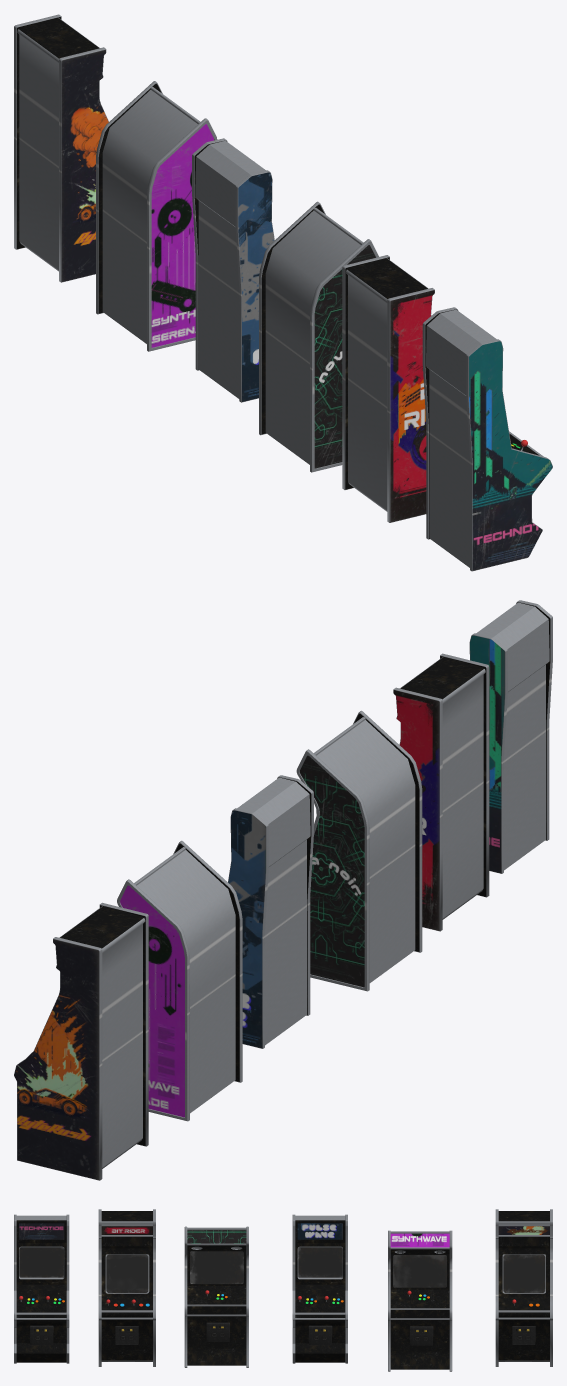
File: arcade-machine-kit.glb
The picture shows the model from 3 angles, top to bottom: view 1: azimuth 30°, elevation 25°; view 2: azimuth 150°, elevation 25°; view 3: azimuth 270°, elevation 25°; orthographic projection. The views are drawn at different scales.
Parts seen in each view (by area): view 1: arcade 5_001, arcade 1, arcade 6, arcade 2, arcade 3_001, arcade 4; view 2: arcade 6, arcade 3_001, arcade 5_001, arcade 2, arcade 4, arcade 1; view 3: arcade 3_001, arcade 5_001, arcade 2, arcade 6, arcade 1, arcade 4.
Part boxes in pixels (x1=…): arcade 5_001: x1=96, y1=81, x2=217, y2=351; arcade 1: x1=422, y1=307, x2=552, y2=571; arcade 6: x1=14, y1=14, x2=108, y2=282; arcade 2: x1=342, y1=255, x2=434, y2=522; arcade 3_001: x1=259, y1=201, x2=378, y2=472; arcade 4: x1=192, y1=138, x2=274, y2=402; arcade 6: x1=14, y1=902, x2=148, y2=1180; arcade 3_001: x1=296, y1=710, x2=422, y2=991; arcade 5_001: x1=117, y1=840, x2=242, y2=1121; arcade 2: x1=393, y1=653, x2=489, y2=931; arcade 4: x1=228, y1=775, x2=313, y2=1048; arcade 1: x1=469, y1=600, x2=552, y2=873; arcade 3_001: x1=184, y1=1226, x2=248, y2=1367; arcade 5_001: x1=388, y1=1230, x2=452, y2=1371; arcade 2: x1=98, y1=1209, x2=155, y2=1366; arcade 6: x1=495, y1=1209, x2=552, y2=1366; arcade 1: x1=14, y1=1214, x2=69, y2=1363; arcade 4: x1=292, y1=1214, x2=347, y2=1363.
Size of the model in its own units: 0.896 by 1.95 by 6.92.
Materials: 7 (7 with a texture image).
